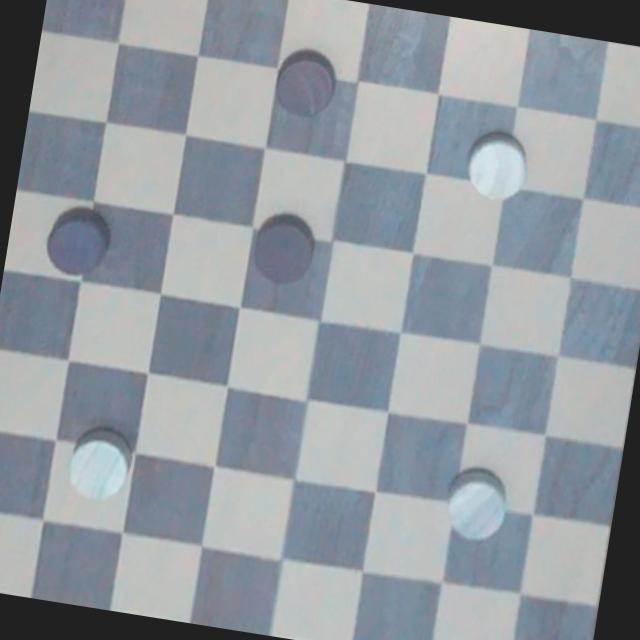BOARD: (0, 0, 640, 640)
black: (240, 206, 328, 299), (260, 38, 354, 122), (36, 196, 122, 287)
white: (55, 417, 144, 510), (436, 457, 520, 554), (458, 121, 542, 208)
